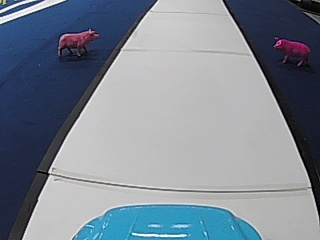pig: (55, 26, 98, 57), (270, 34, 310, 66)
